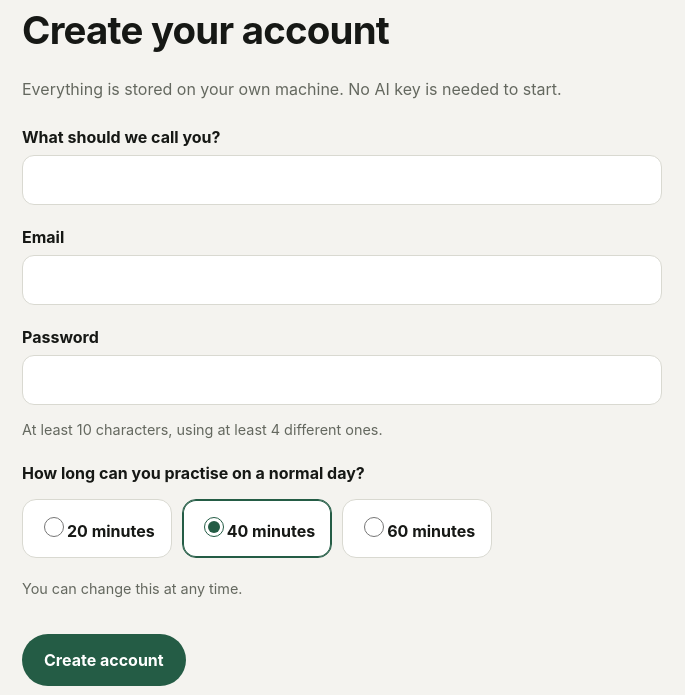
Test: errors › offers a route out when the email is taken
Type "Egor" into the field labelled "What should we call you?" at point(342, 180), box [22, 155, 662, 205]
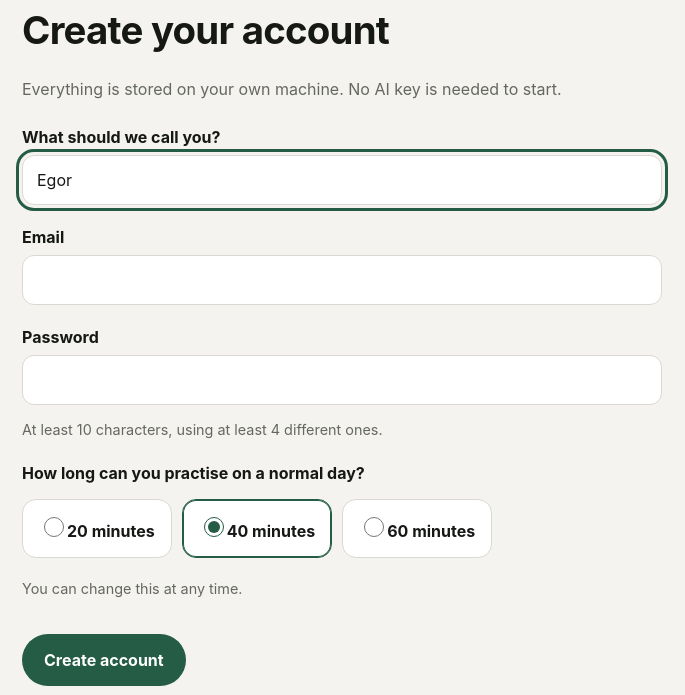
Type "egor@example.com" into the field labelled "Email" at point(342, 280), box [22, 255, 662, 305]
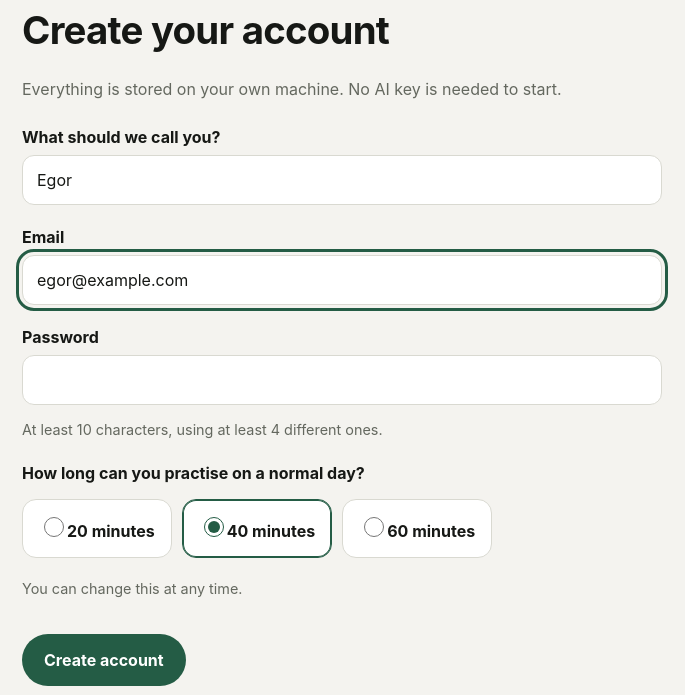
Type "correct-horse-9" into the password field labelled "Password" at point(342, 380), box [22, 355, 662, 405]
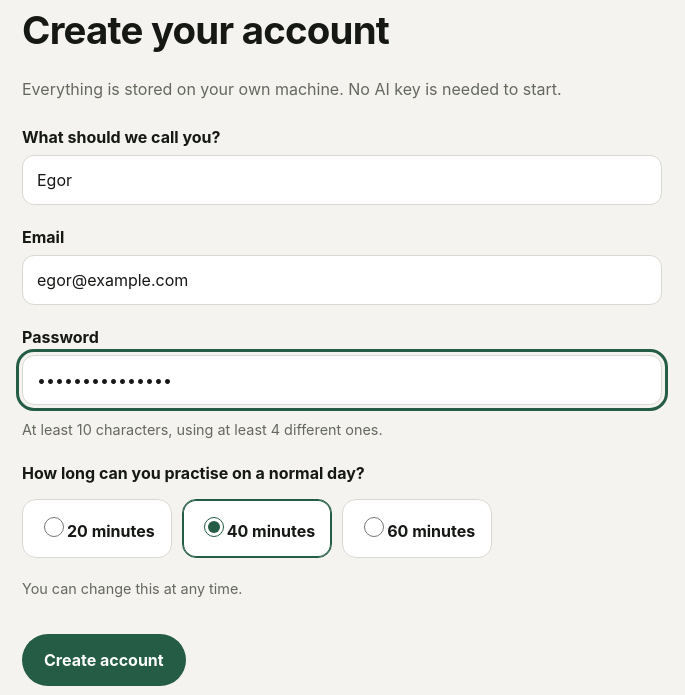
Click the button "Create account" at point(104, 660), box [22, 634, 186, 686]
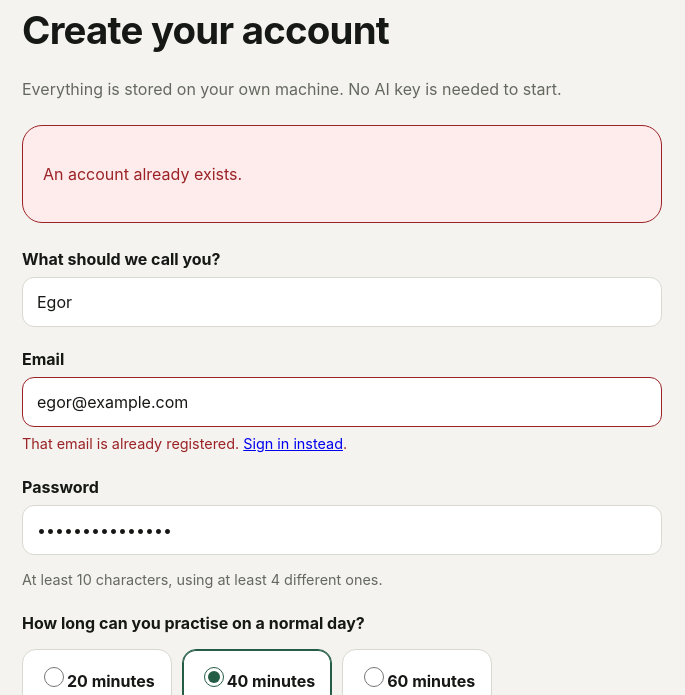
Check: the message "An account already exists." is shown, box [22, 125, 662, 223]
